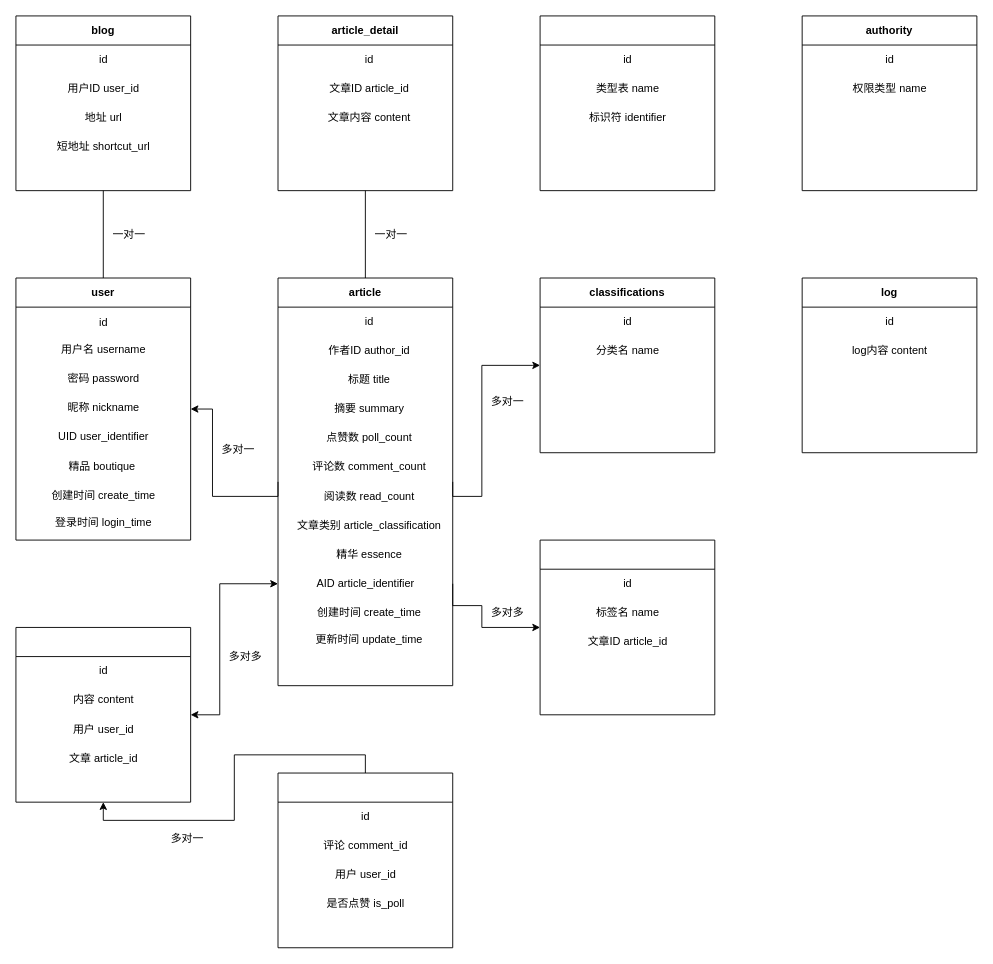
Image size: 993x964. Some labels were removed from this diagram. The shapes that lost their labels are listed below. From the top down, each one's box as (x1, y1, x2, y2) in pixels, then its label:
(539, 15, 715, 191): identifer
(539, 539, 715, 715): tags
(15, 627, 191, 802): comment
(277, 772, 453, 948): comment poll
